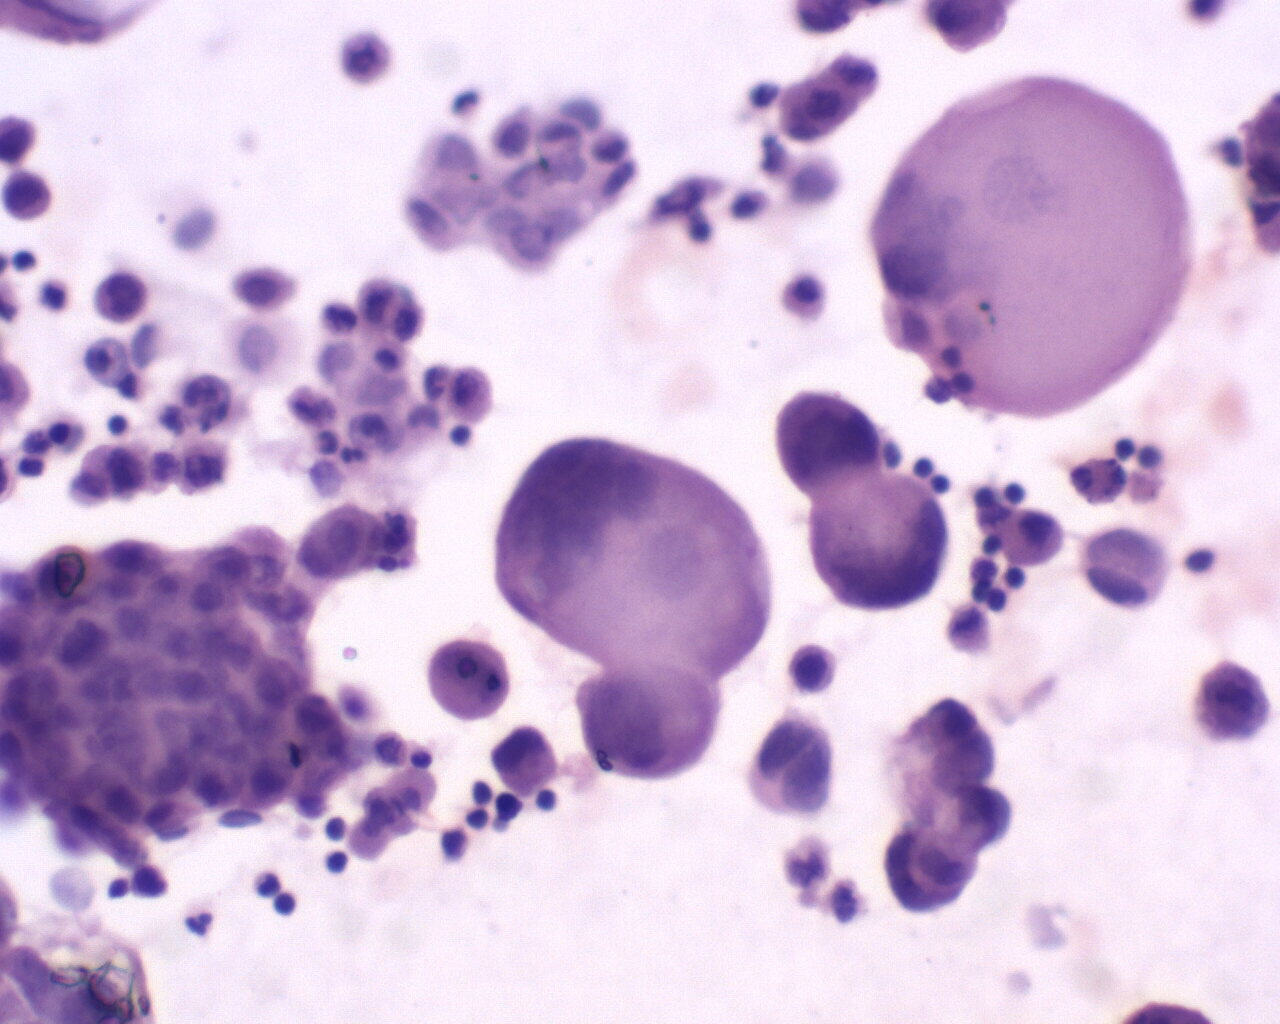ab: (499, 435, 778, 678), (805, 473, 951, 613), (573, 665, 718, 785), (771, 385, 884, 497), (744, 712, 841, 823), (1191, 659, 1274, 752), (94, 272, 149, 324)
histo: (872, 66, 1205, 417)
lymph: (321, 844, 357, 884)
meso: (784, 76, 858, 136), (1003, 507, 1066, 572), (775, 270, 830, 328)
neutro: (181, 903, 218, 939)
